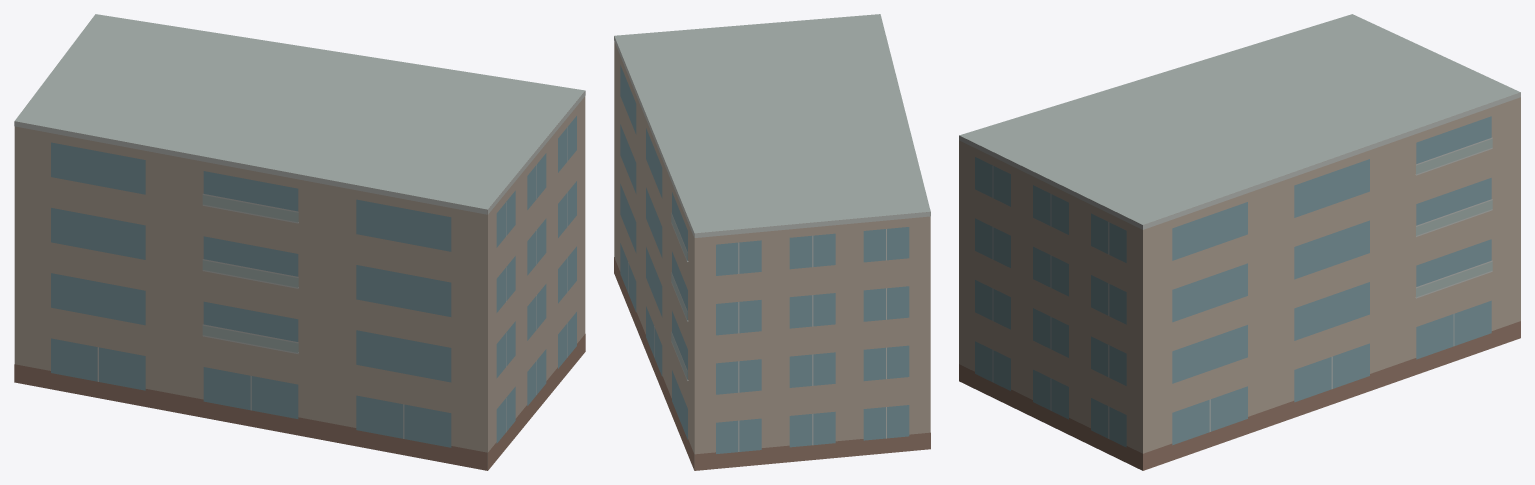
Rendered from survey-upis-32845672.glb.
3 views of the same model, side by side, from view 1: azimuth 30°, elevation 25°; view 2: azimuth 150°, elevation 25°; view 3: azimuth 270°, elevation 25° (orthographic). The views are drawn at different scales.
Visible parts, largest first — view 1: survey-upis-32845672.tmp; view 2: survey-upis-32845672.tmp; view 3: survey-upis-32845672.tmp.
Boxes of the visible parts, x1=… form: survey-upis-32845672.tmp: x1=14, y1=14, x2=585, y2=470; survey-upis-32845672.tmp: x1=614, y1=14, x2=930, y2=470; survey-upis-32845672.tmp: x1=959, y1=14, x2=1520, y2=470.
Size of the model in its own units: 22.47 by 12.2 by 25.27.
